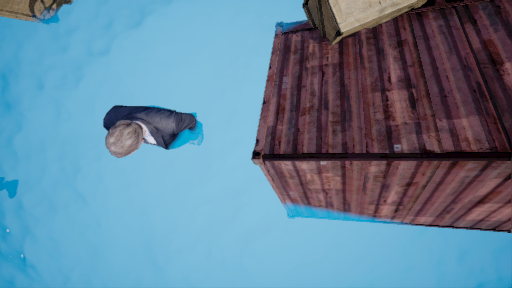person: (102, 100, 206, 154)
